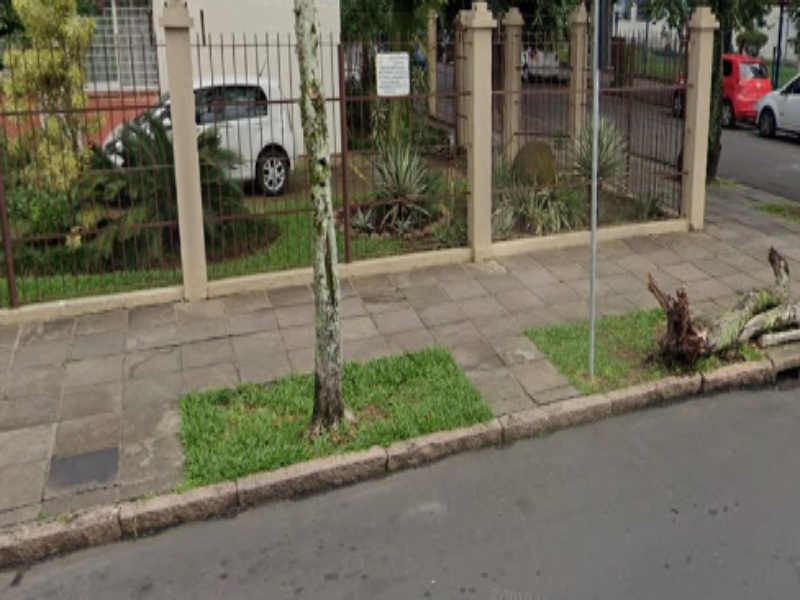v28: (3, 314, 792, 588)
